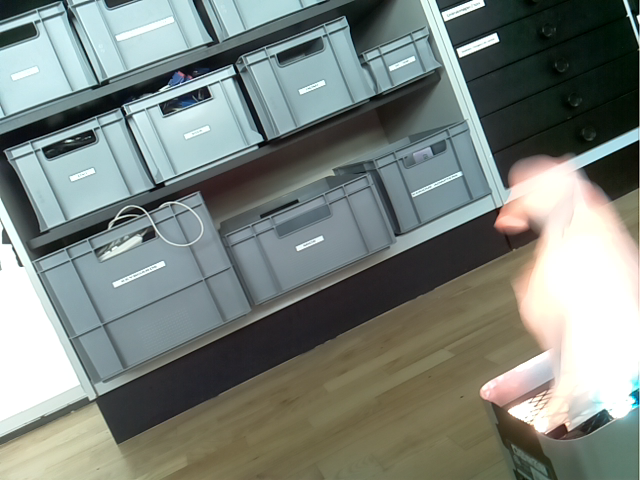fire: (494, 153, 640, 435)
